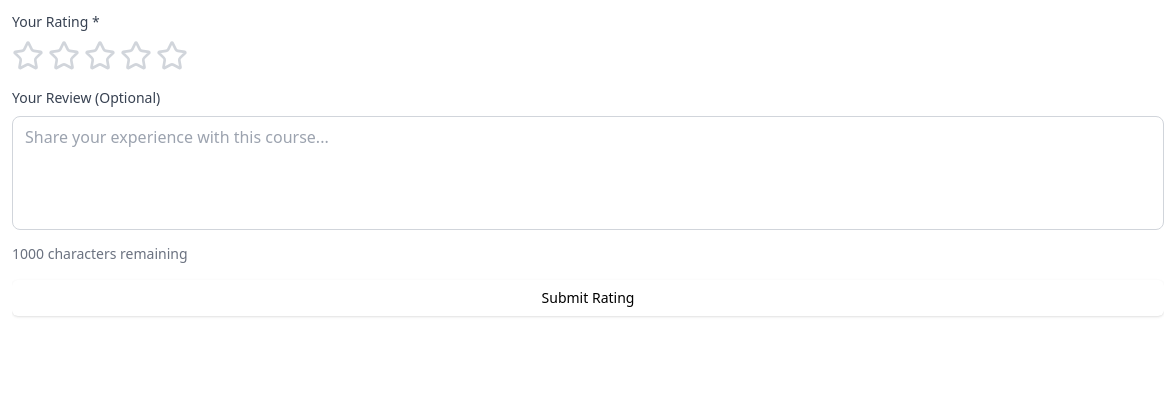
Test: RatingInput Component › Form Submission › should display error message on submission failure
Click the button named "Rate 5 stars" at (172, 56), box [156,40,188,72]
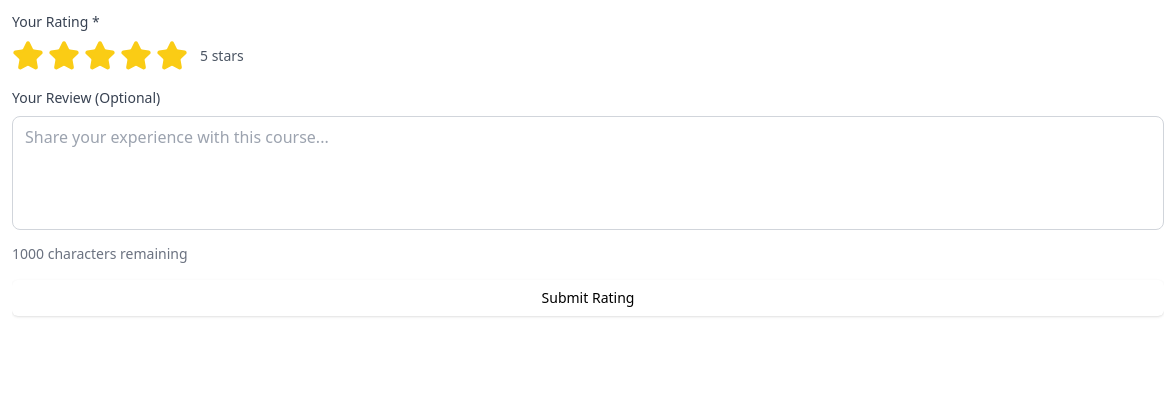
Click the button "Submit Rating" at (588, 298), box [12,280,1164,316]
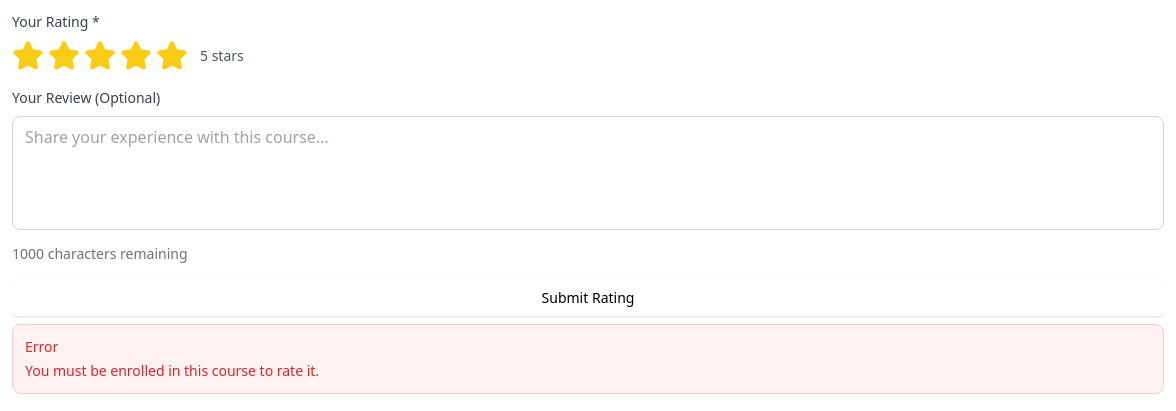
Expected: the text "You must be enrolled in this course to rate it." is shown, [25,361,319,380]
